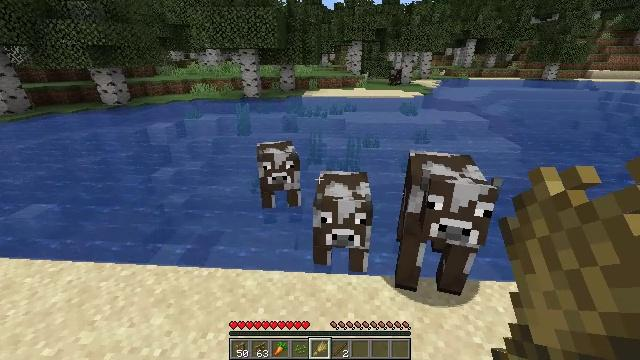cow: (395, 151, 498, 297), (314, 171, 369, 271), (258, 142, 301, 209), (389, 68, 401, 85)
